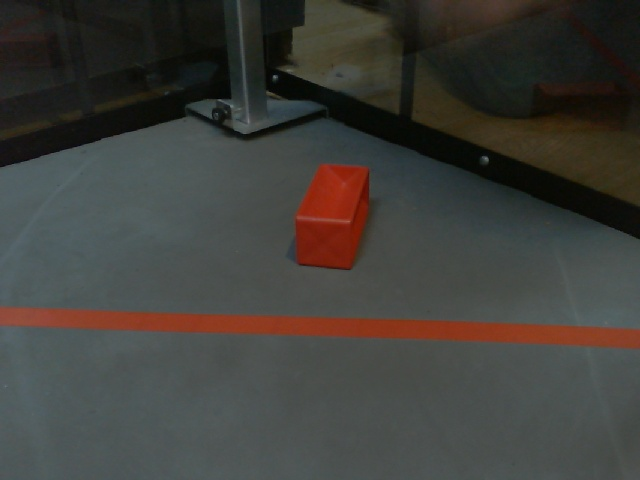RedSample: (291, 160, 373, 274)
